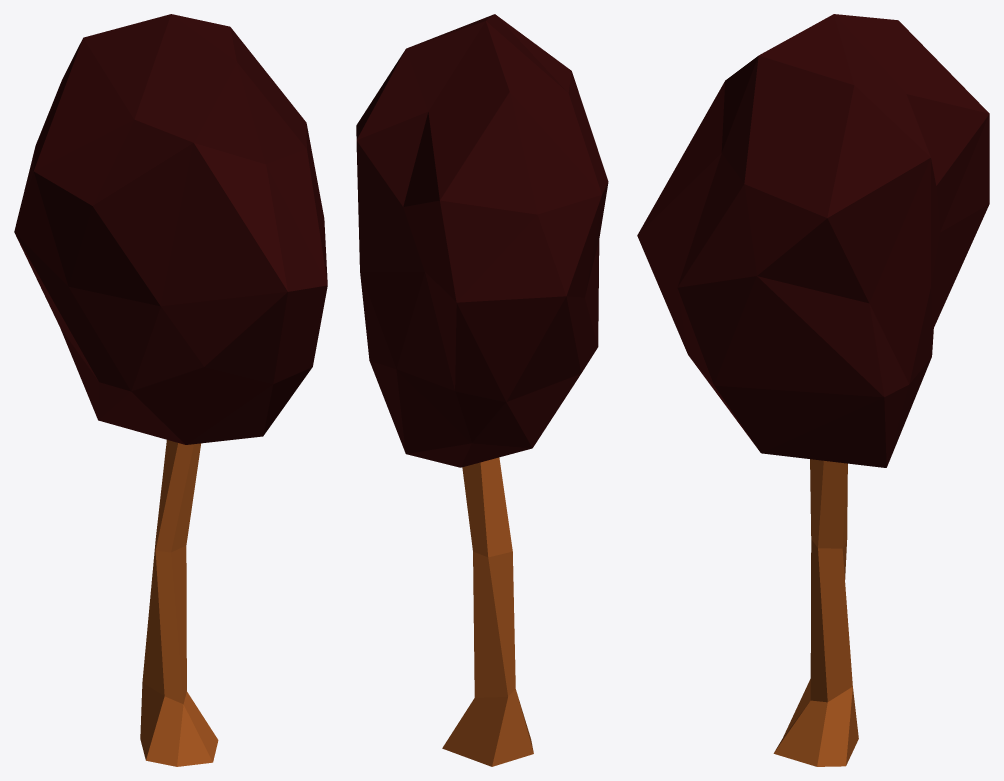
Rendered from Tree01.FBX.
The picture shows the model from 3 angles, left to right: view 1: azimuth 30°, elevation 25°; view 2: azimuth 150°, elevation 25°; view 3: azimuth 270°, elevation 25°; orthographic projection.
Visible parts, largest first — view 1: Tree; view 2: Tree; view 3: Tree.
Part boxes in pixels (x1=…): Tree: x1=14, y1=14, x2=327, y2=766; Tree: x1=356, y1=14, x2=608, y2=766; Tree: x1=637, y1=14, x2=989, y2=766.
Bounding box in the file's own units: 218 × 587 × 256.
